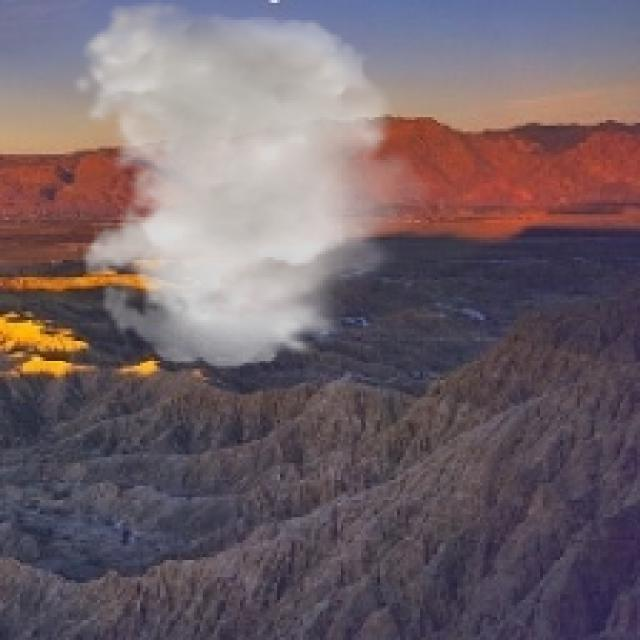Smoke: (71, 0, 440, 369)
